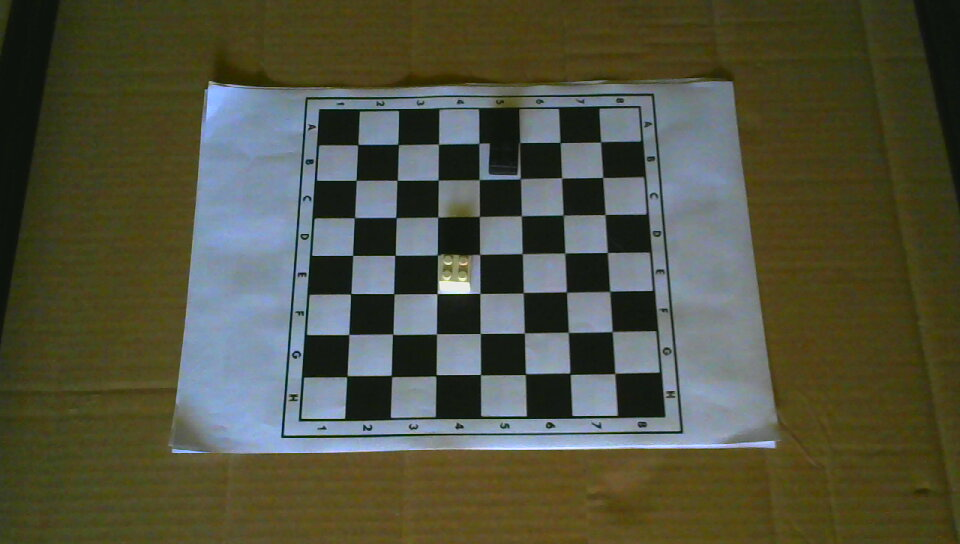bp: (486, 139, 519, 177)
wp: (439, 254, 470, 290)
